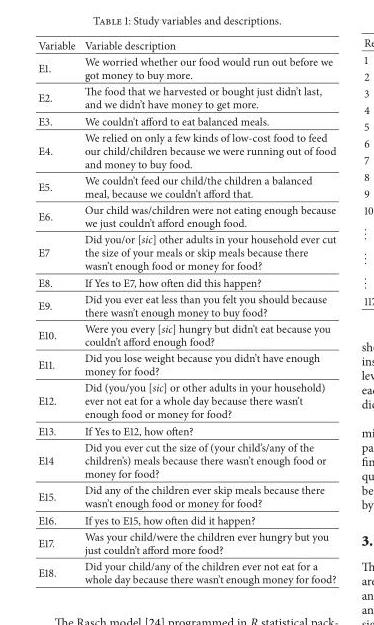table: (37, 37, 335, 586)
table column: (79, 37, 335, 586), (37, 37, 79, 586)
table column header: (37, 37, 335, 53)
table row: (37, 230, 335, 273), (37, 378, 335, 421), (37, 438, 335, 481), (37, 129, 335, 171), (37, 82, 335, 112), (37, 171, 335, 201), (37, 319, 335, 349), (37, 481, 335, 511), (37, 53, 335, 82), (37, 201, 335, 230), (37, 290, 335, 319), (37, 349, 335, 378), (37, 528, 335, 557), (37, 557, 335, 586), (37, 112, 335, 129), (37, 273, 335, 290), (37, 421, 335, 438), (37, 511, 335, 528), (37, 37, 335, 53)
